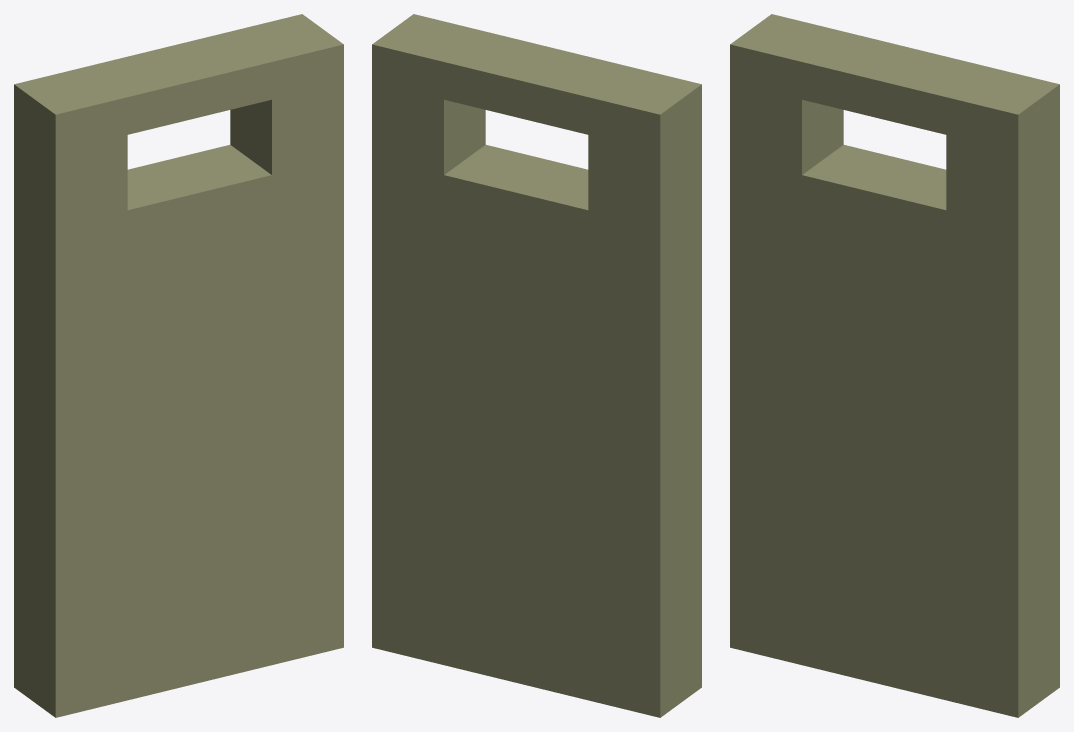
The model's file is pared4.obj.
3 renders of one model, left to right at view 1: azimuth 30°, elevation 25°; view 2: azimuth 150°, elevation 25°; view 3: azimuth 330°, elevation 25°, orthographic.
Parts seen in each view (by area): view 1: Wall_window.015; view 2: Wall_window.015; view 3: Wall_window.015.
Part boxes in pixels (x1,y1,x2,y2): Wall_window.015: (14, 14, 343, 717); Wall_window.015: (372, 14, 701, 717); Wall_window.015: (730, 14, 1059, 717).
Bounding box in the file's own units: 4 × 8 × 1.
Materials: 2 (2 with a texture image).
